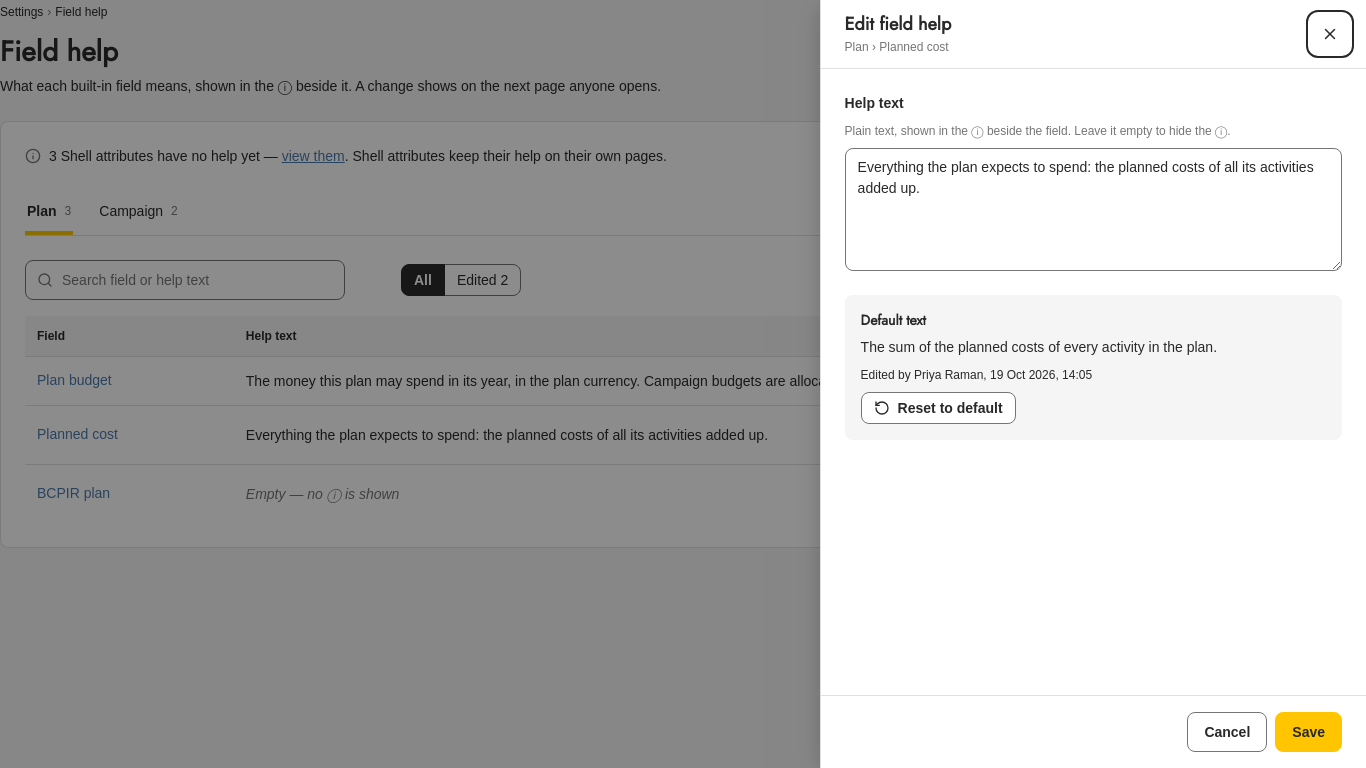
it: FieldHelpPage: edit and reset (016 FR-046) › offers Reset to default from the panel of an edited text
Expected: the dialog "Edit field help" shows "The sum of the planned costs of every activity in the plan.", [861,339,1217,355]
Expected: the dialog "Edit field help" shows "Edited by Priya Raman", [861,368,1092,382]
What coordinates should you click on to do the following:
click the button "Reset to default"
I would click on:
 (938, 408)
Its box is [861,392,1016,424].
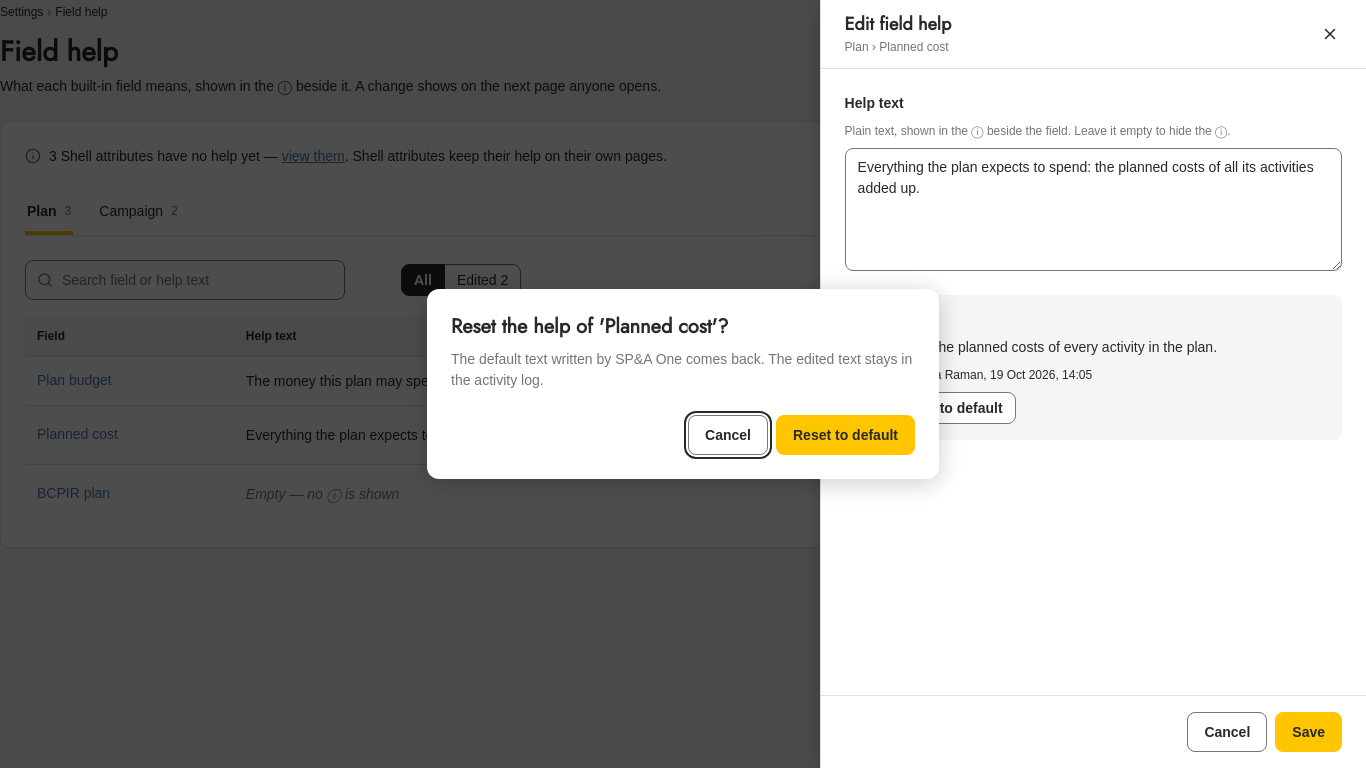
Now the dialog "Reset the help of 'Planned cost'?" is shown, box [427,289,939,479]
